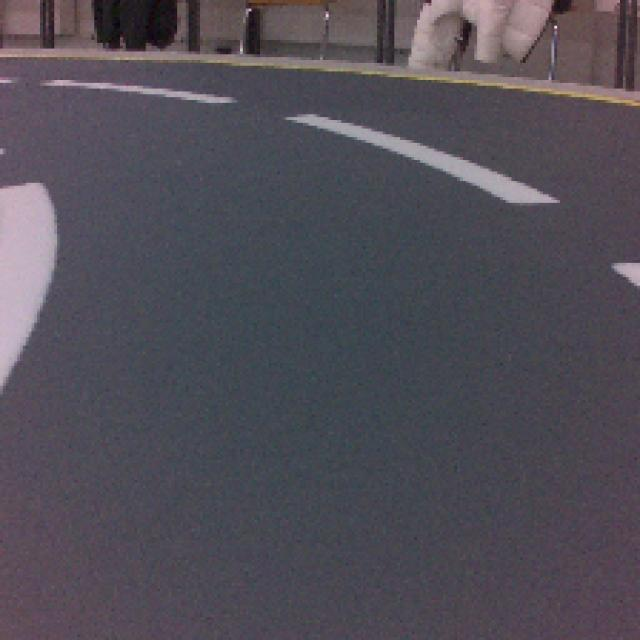Road: (0, 269, 639, 640)
